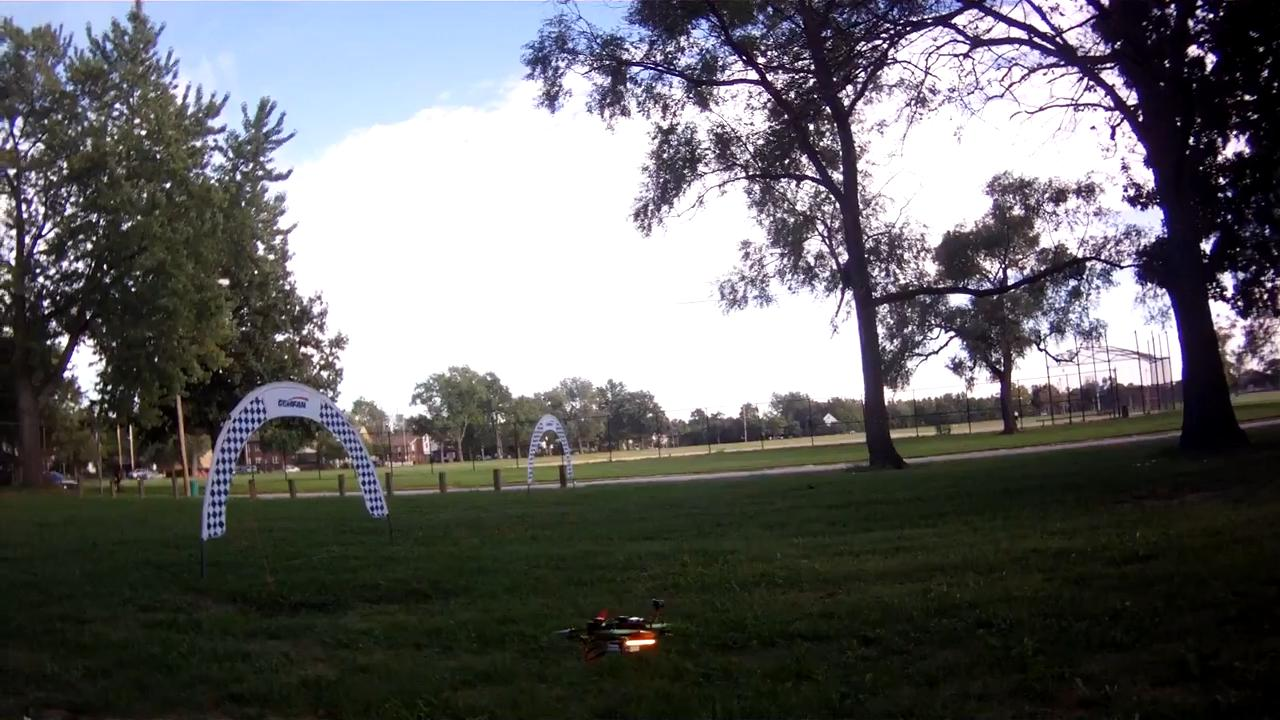gate: (203, 378, 385, 541), (524, 409, 573, 486)
